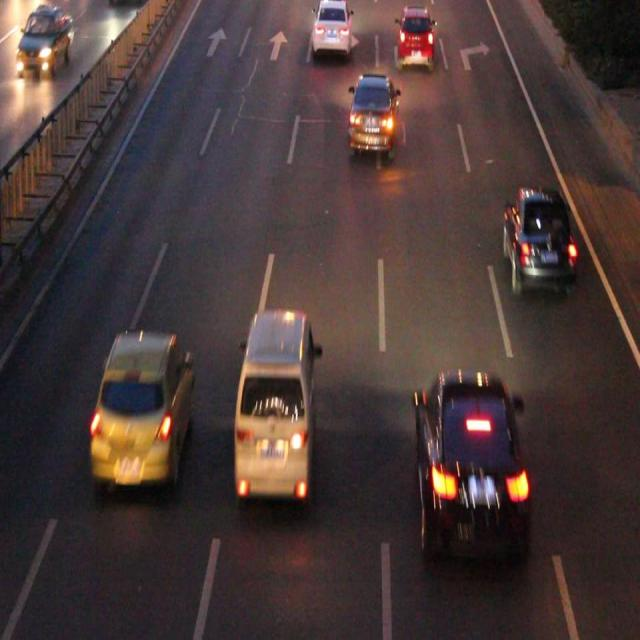car: (416, 374, 526, 554), (91, 332, 193, 480), (502, 188, 575, 287), (350, 77, 395, 146), (398, 9, 432, 66), (313, 1, 350, 50)
truck: (234, 313, 313, 496)
